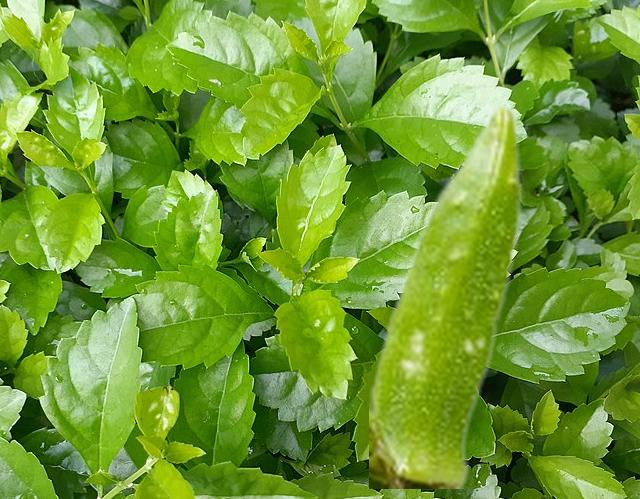okra: (369, 100, 523, 487)
